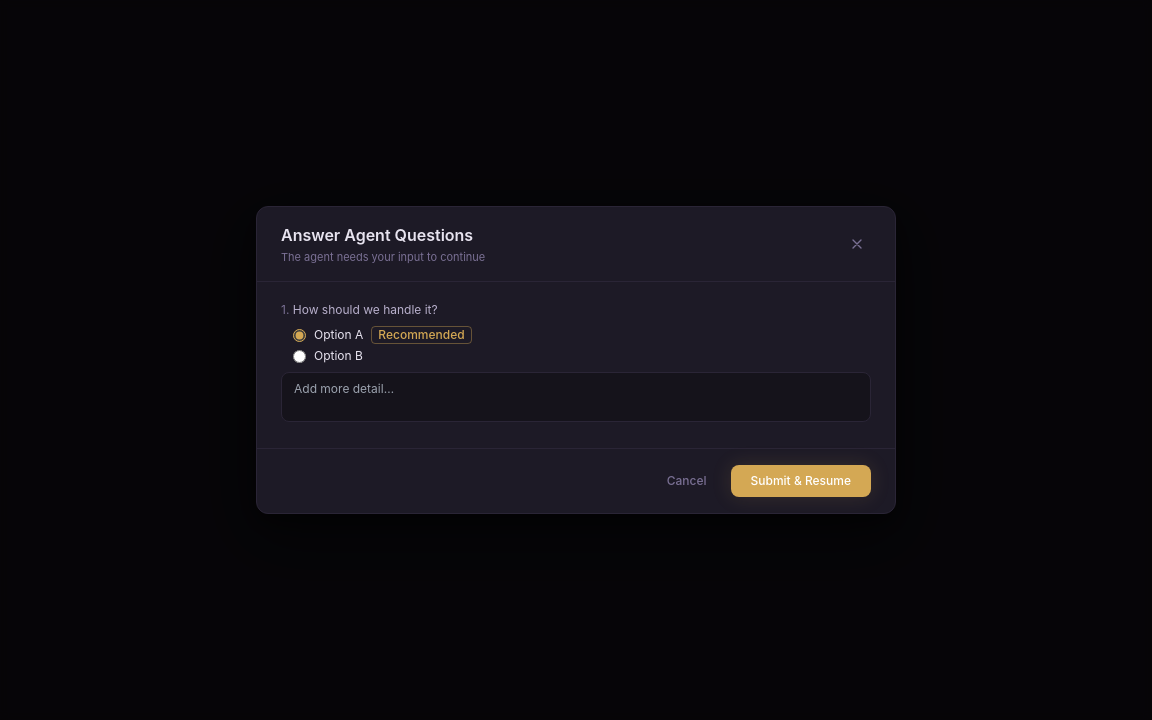
Test: AnswerQuestionsModal › shows error when resumeNeedsHuman fails
Click the button with test id "answer-modal-submit" at (801, 481), box [730,465,871,497]
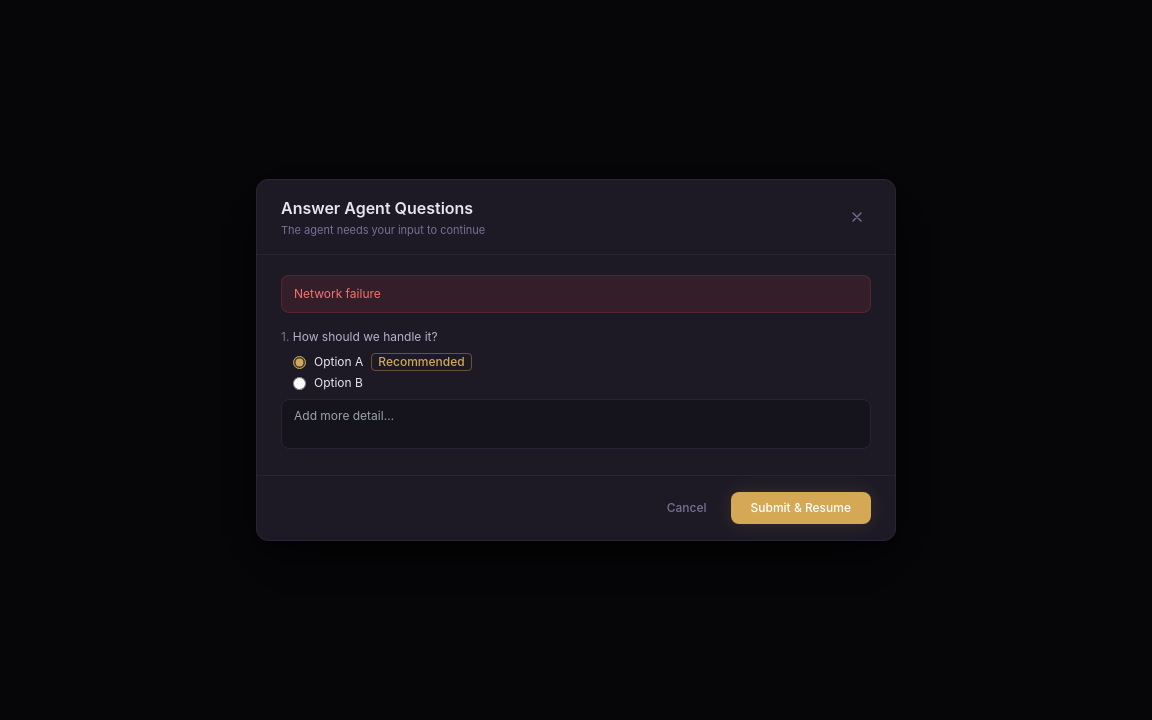
Check: the text "Network failure" is shown, box [281,275,871,313]
Check: the text with test id "answer-modal-error" reads "Network failure", box [294,286,381,301]
